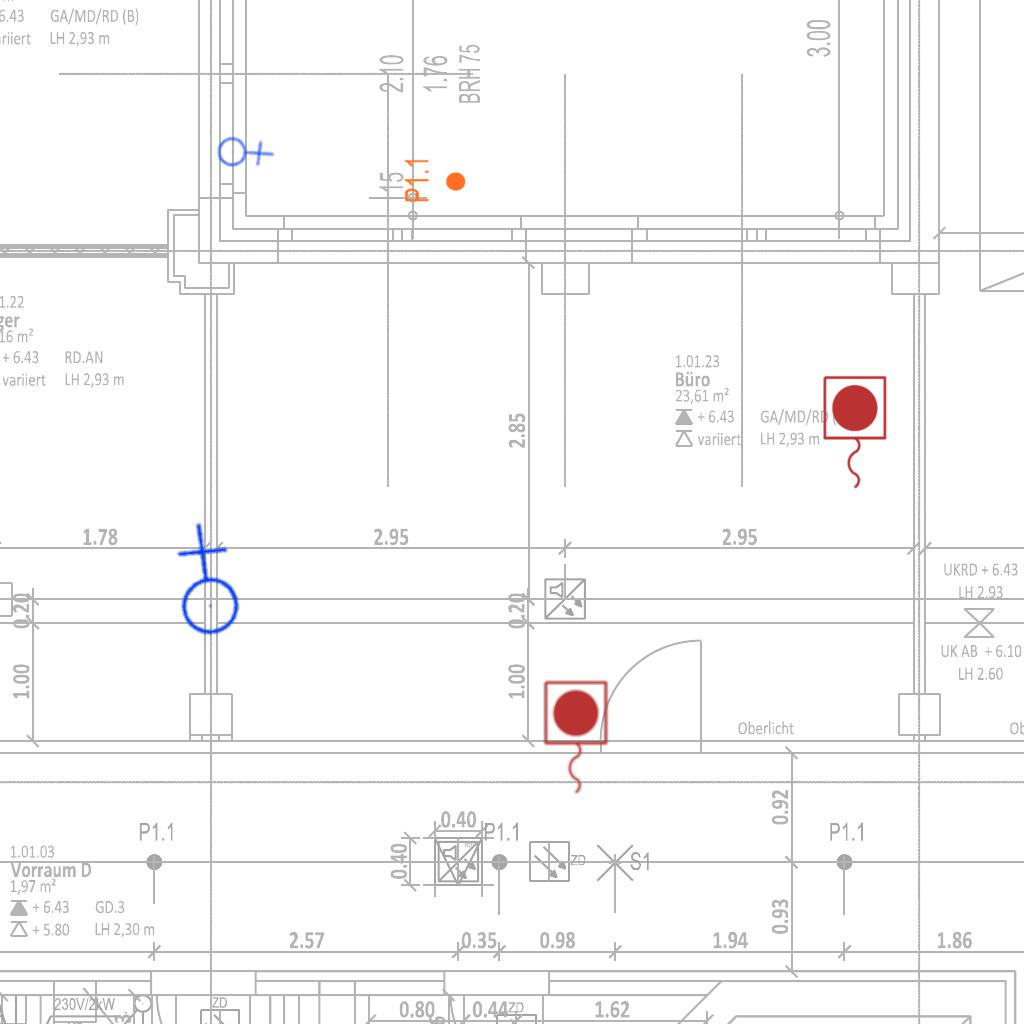Downlight_LED_Einbauleuchten_Flur: (403, 157, 467, 203)
Elektroanschluss_allgemein_230V_Geraeteanschlussdose_230V: (136, 518, 271, 654), (208, 116, 277, 185)
Zugtaster: (539, 677, 611, 799), (818, 372, 890, 494)
